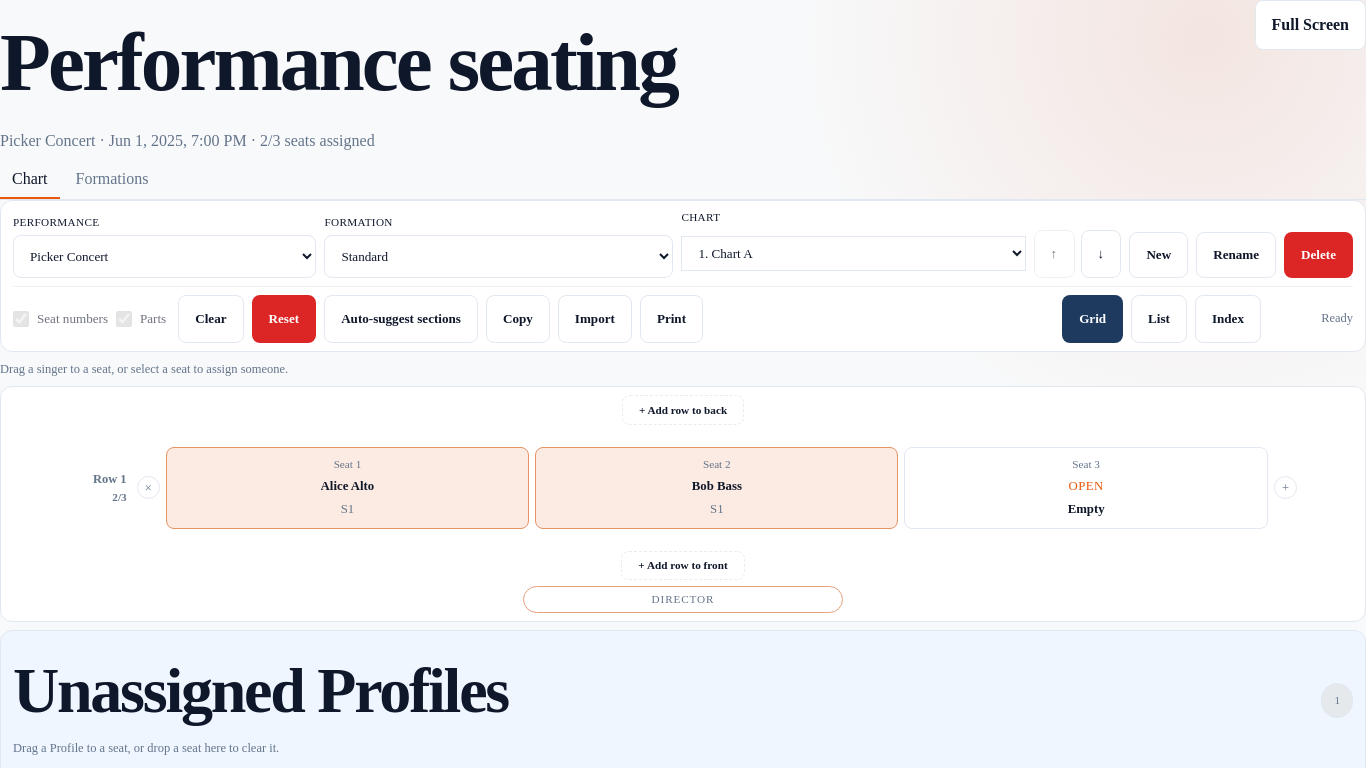
Scenario: Seat assignment candidate picker › excludes the occupant and other assigned Profiles on an occupied seat
Click the button named "Seat 1, assigned to Alice Alto".
click(347, 488)  # box [166, 447, 529, 529]
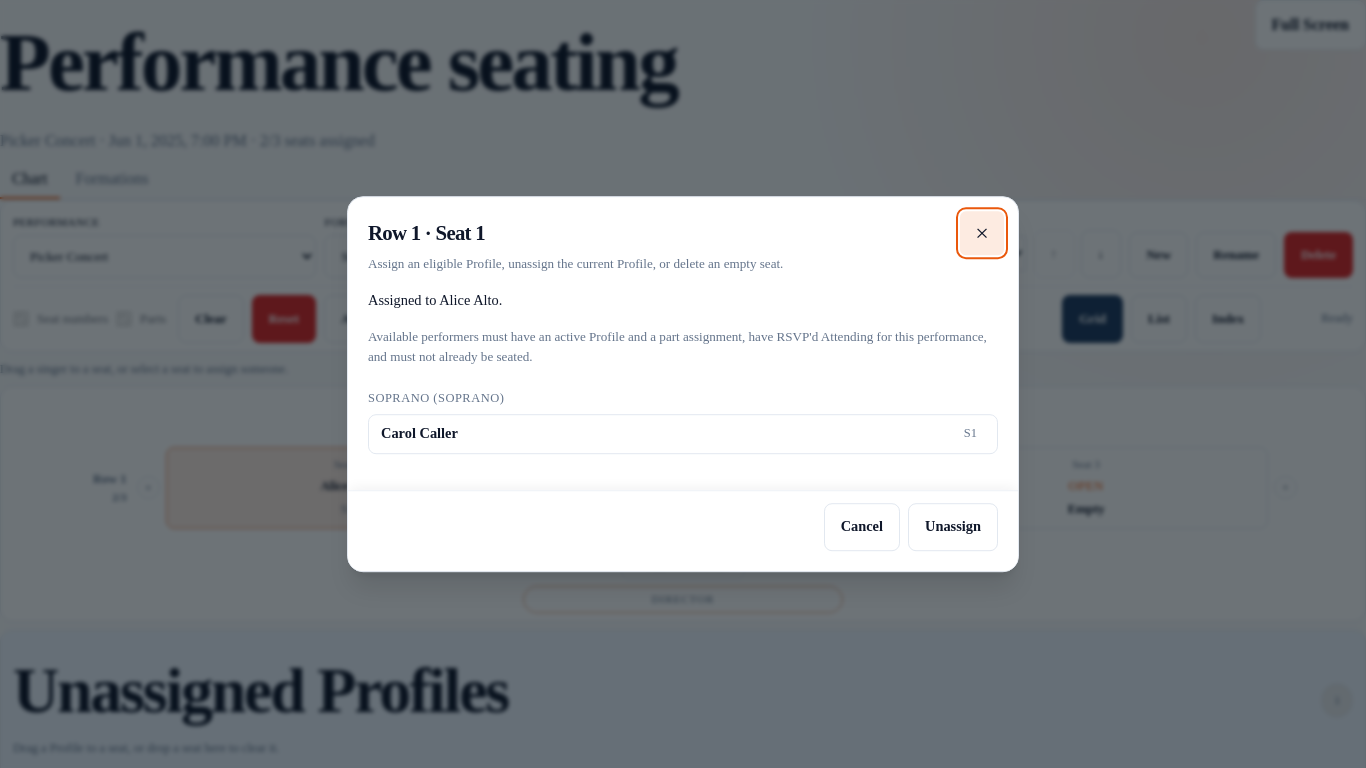
Check: the text "Assigned to Alice Alto." is shown, box [368, 292, 502, 308]
Check: the button "Carol Caller S1" is shown, box [368, 414, 998, 454]
Check: the button "Unassign" is shown, box [908, 503, 998, 551]
